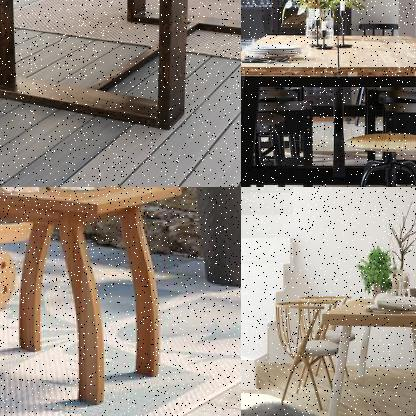table: (0, 187, 187, 410), (0, 0, 240, 131), (241, 30, 415, 186), (318, 289, 415, 415)
